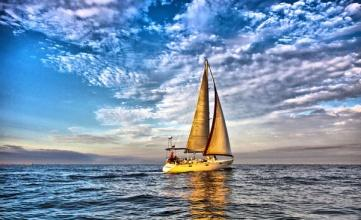fanchuan: (162, 56, 242, 177)
